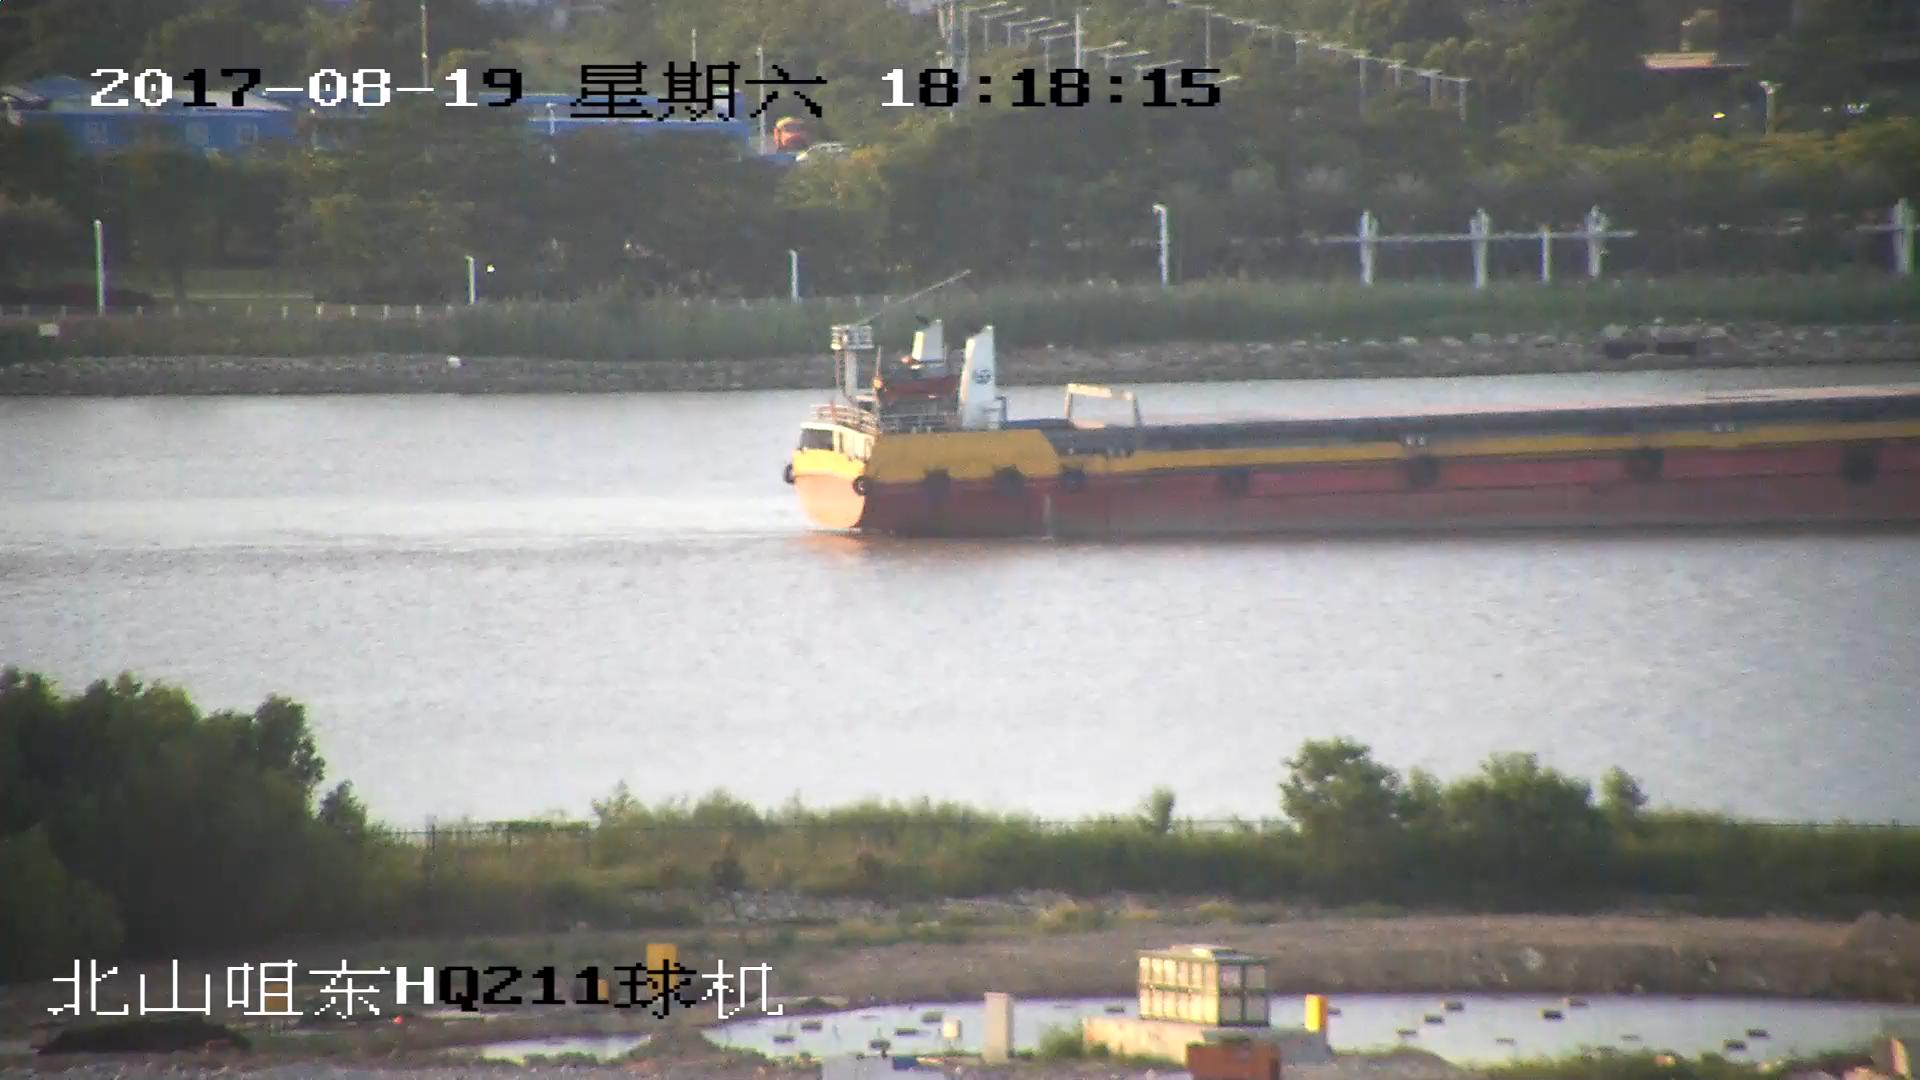general cargo ship: (783, 313, 1920, 537)
